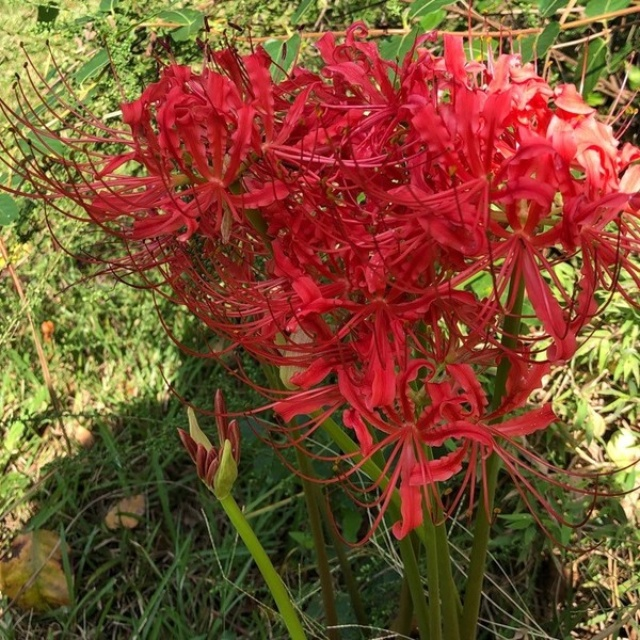obstacle: (10, 18, 598, 615)
